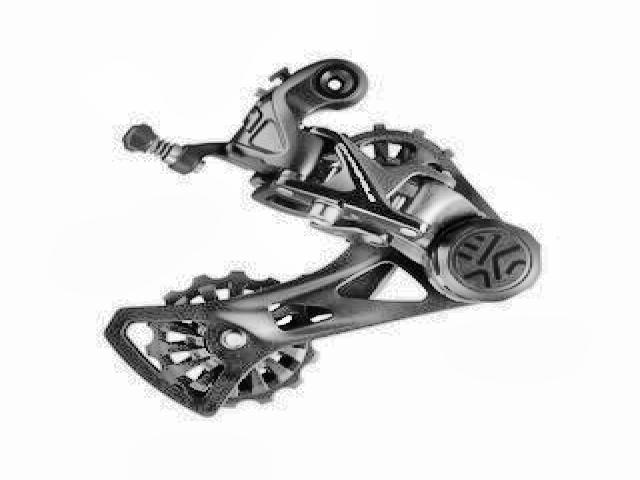rear_derailleur: (103, 59, 550, 412)
